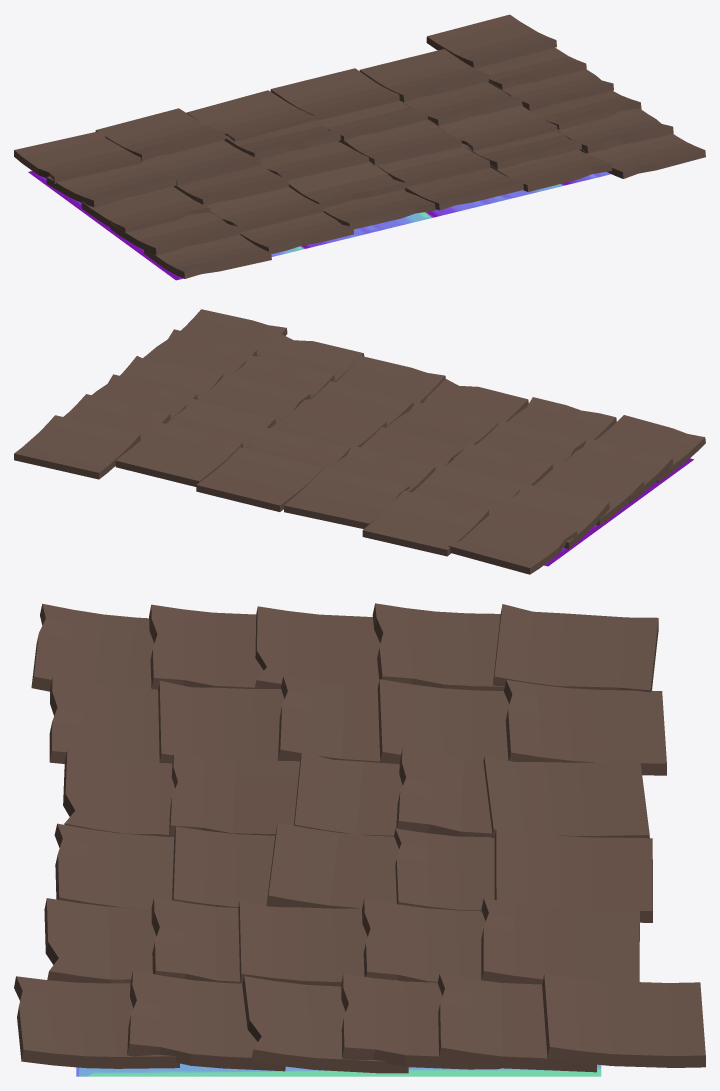
File: SM_Roof_B.fbx
3 views of the same model, one above another, from view 1: azimuth 30°, elevation 25°; view 2: azimuth 150°, elevation 25°; view 3: azimuth 270°, elevation 25° (orthographic). The views are drawn at different scales.
Parts seen in each view (by area): view 1: SM_Roof_B; view 2: SM_Roof_B; view 3: SM_Roof_B.
Part boxes in pixels (x1,y1,x2,y2): SM_Roof_B: [14, 14, 705, 280]; SM_Roof_B: [14, 309, 705, 574]; SM_Roof_B: [14, 603, 705, 1076].
Bounding box in the file's own units: 201 × 6.87 × 132.
